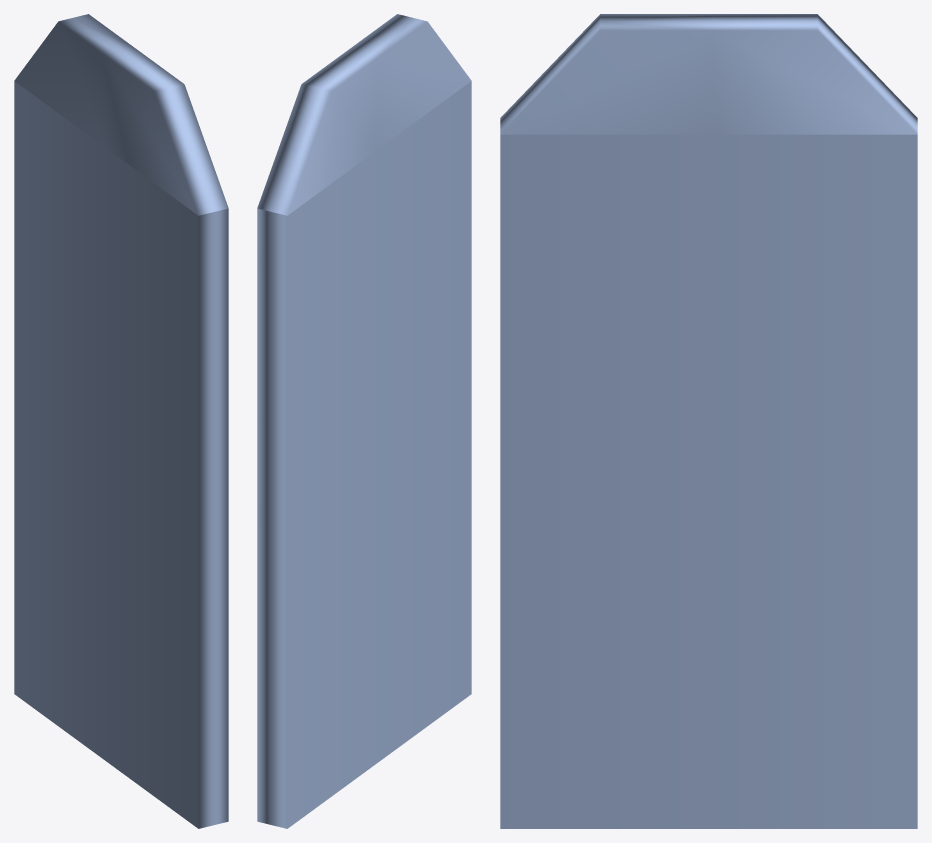
Rendered from Building_A_14.fbx.
3 renders of one model, left to right at view 1: azimuth 30°, elevation 25°; view 2: azimuth 150°, elevation 25°; view 3: azimuth 270°, elevation 25°, orthographic. The views are drawn at different scales.
Parts seen in each view (by area): view 1: Building_A_14; view 2: Building_A_14; view 3: Building_A_14.
Boxes of the visible parts, <box> form: Building_A_14: <box>14,14,228,828</box>; Building_A_14: <box>257,14,471,828</box>; Building_A_14: <box>500,14,917,828</box>.
Bounding box in the file's own units: 42.42 × 946 × 448.
